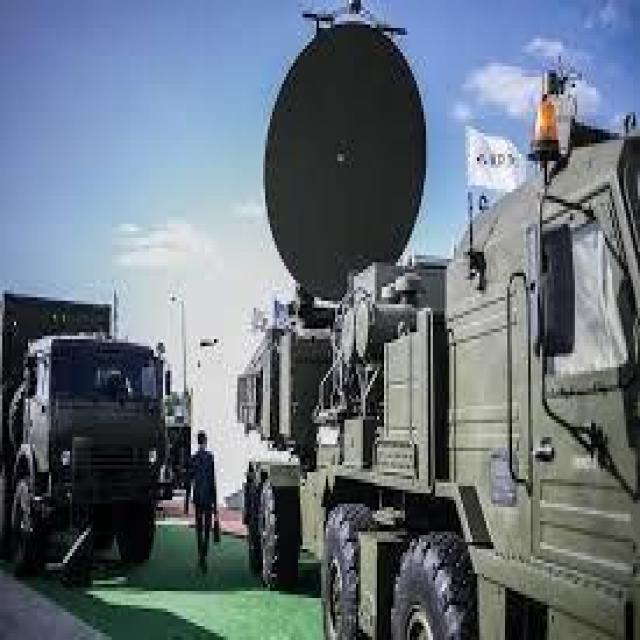Tanks: (208, 152, 636, 631), (2, 280, 174, 584)
